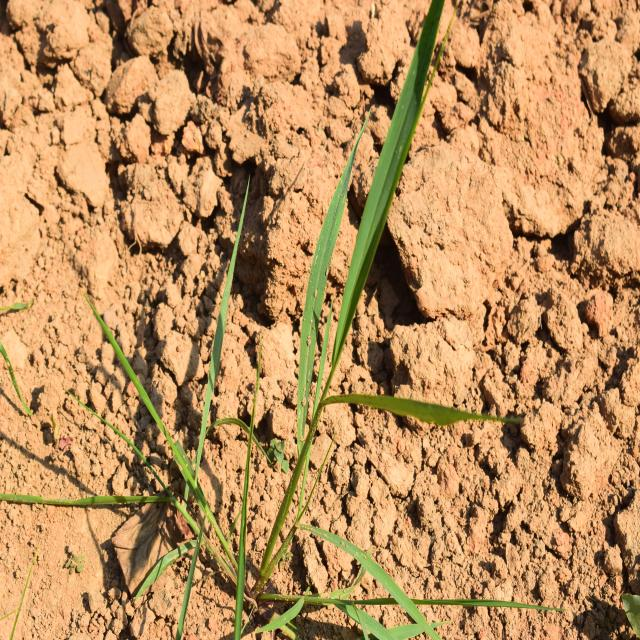green_foxtail: (260, 66, 455, 595)
